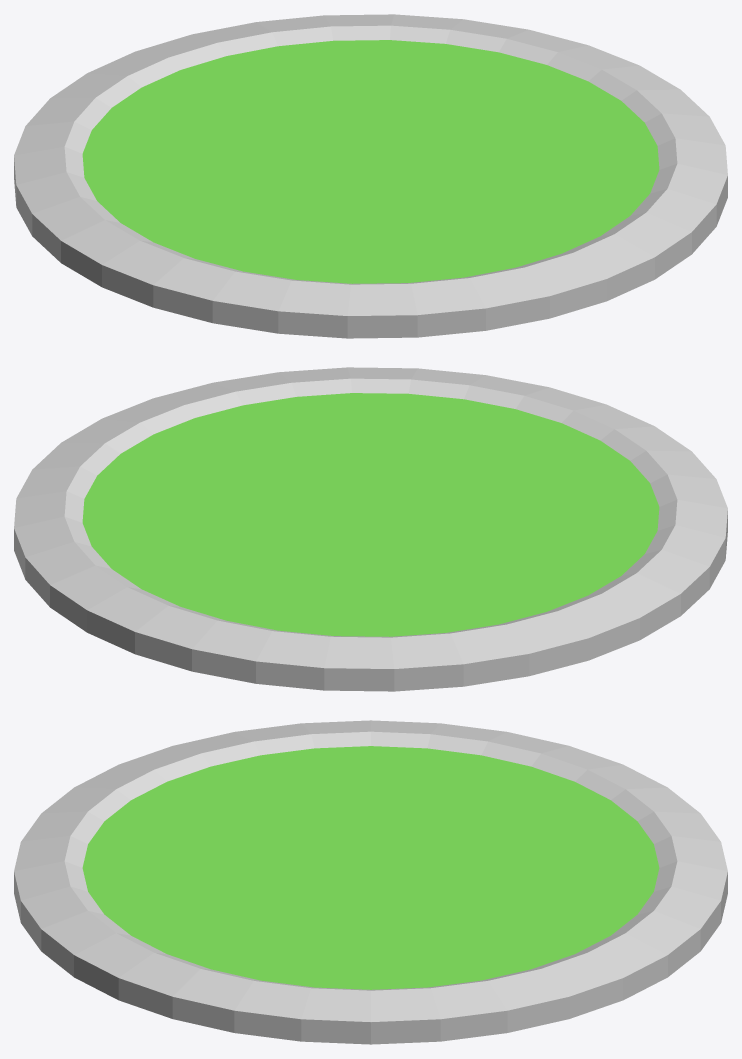
File: Stand.fbx
3 renders of one model, top to bottom at view 1: azimuth 30°, elevation 25°; view 2: azimuth 150°, elevation 25°; view 3: azimuth 270°, elevation 25°, orthographic.
Parts seen in each view (by area): view 1: Cylinder; view 2: Cylinder; view 3: Cylinder.
Boxes of the visible parts, x1,y1,x2,y2 form: Cylinder: (14, 14, 727, 338); Cylinder: (14, 367, 727, 691); Cylinder: (14, 720, 727, 1044).
Bounding box in the file's own units: 5000 × 251 × 5000.
